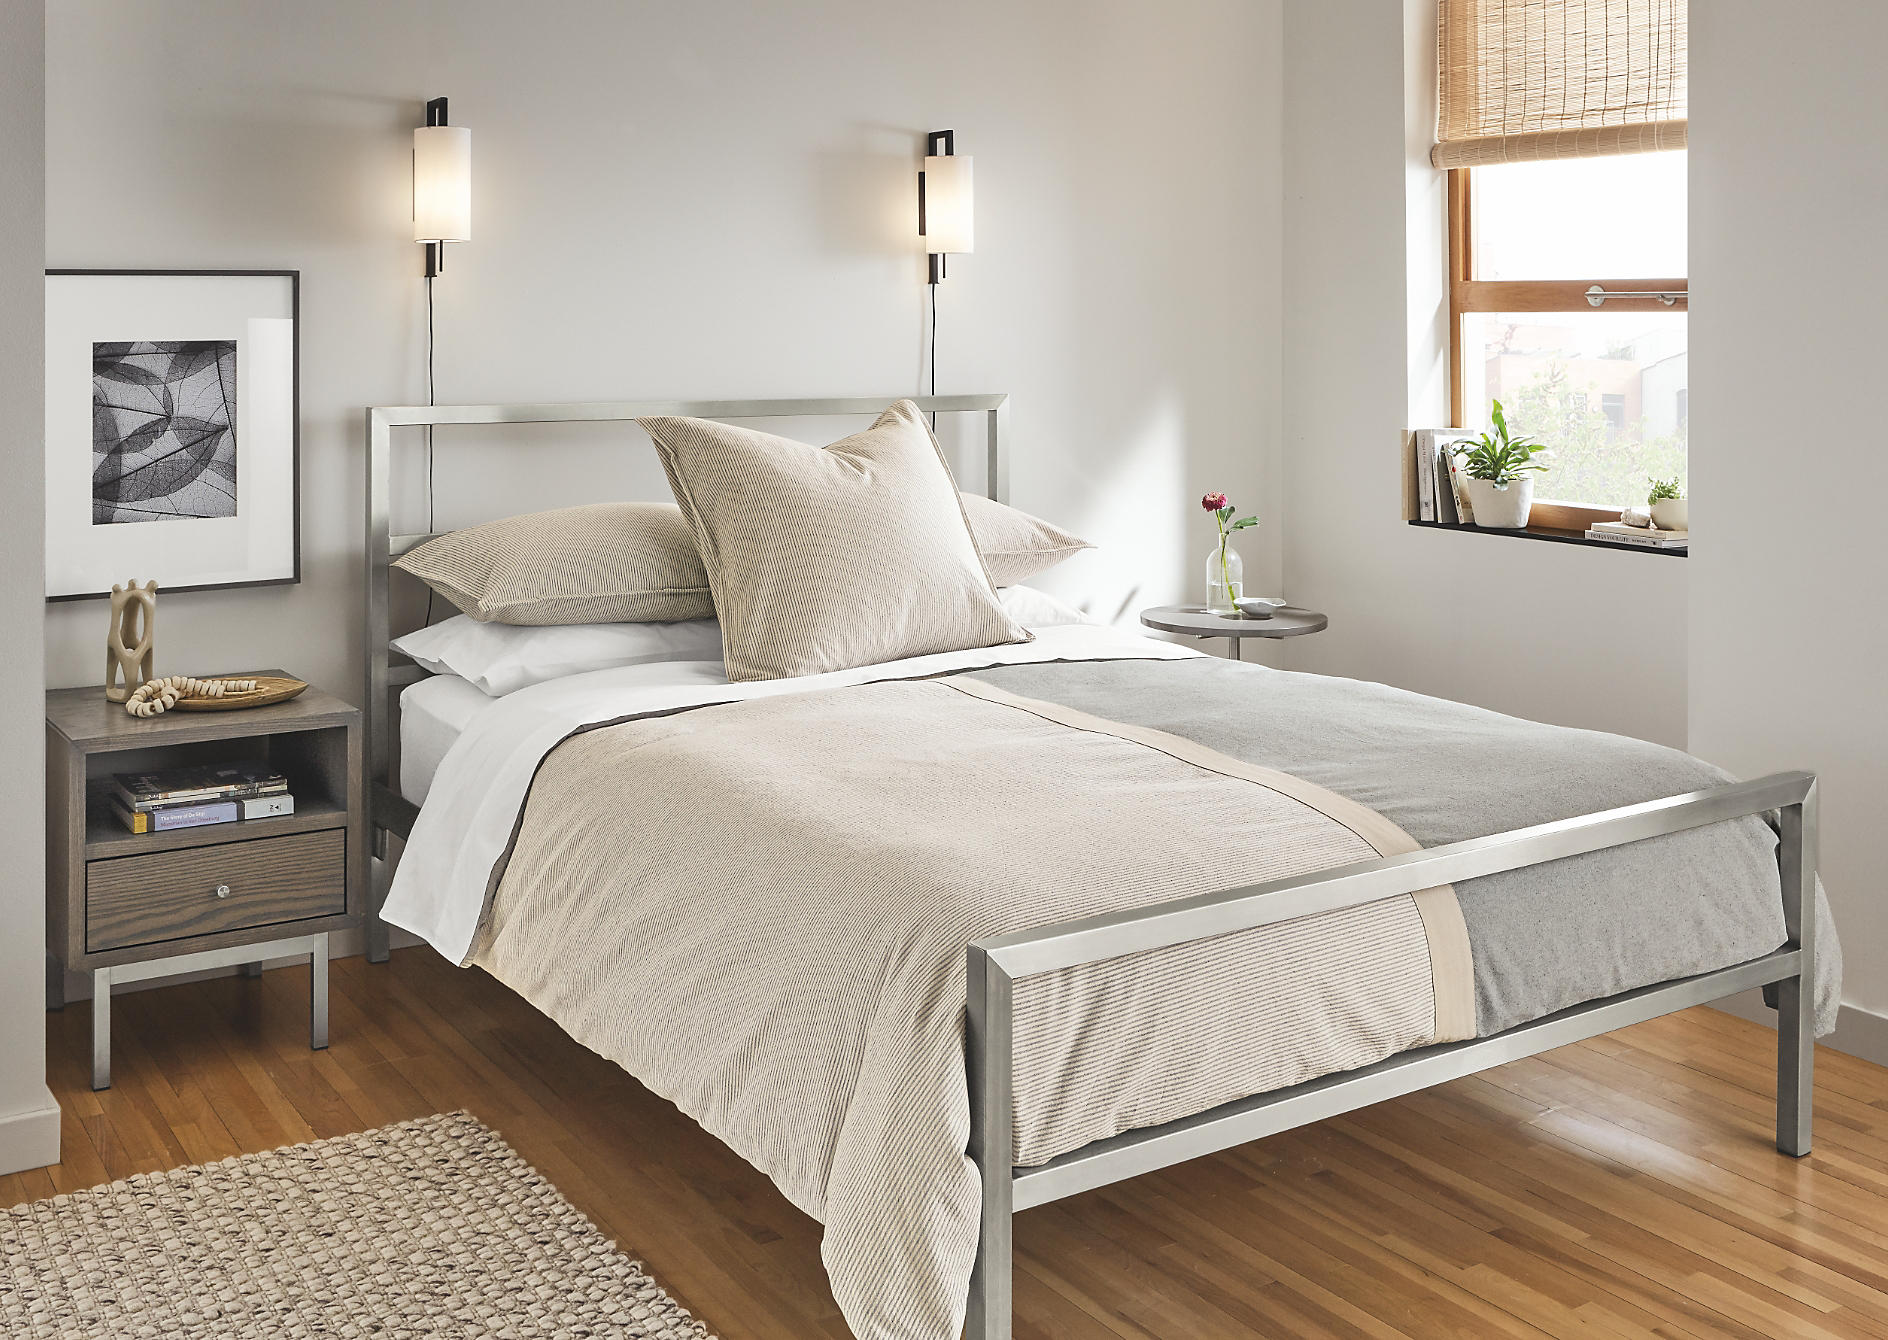bed: (368, 393, 1837, 1336)
frame: (41, 261, 305, 600)
night stand: (45, 670, 371, 1088)
pillow: (645, 397, 1031, 679)
window: (1404, 4, 1691, 561)
